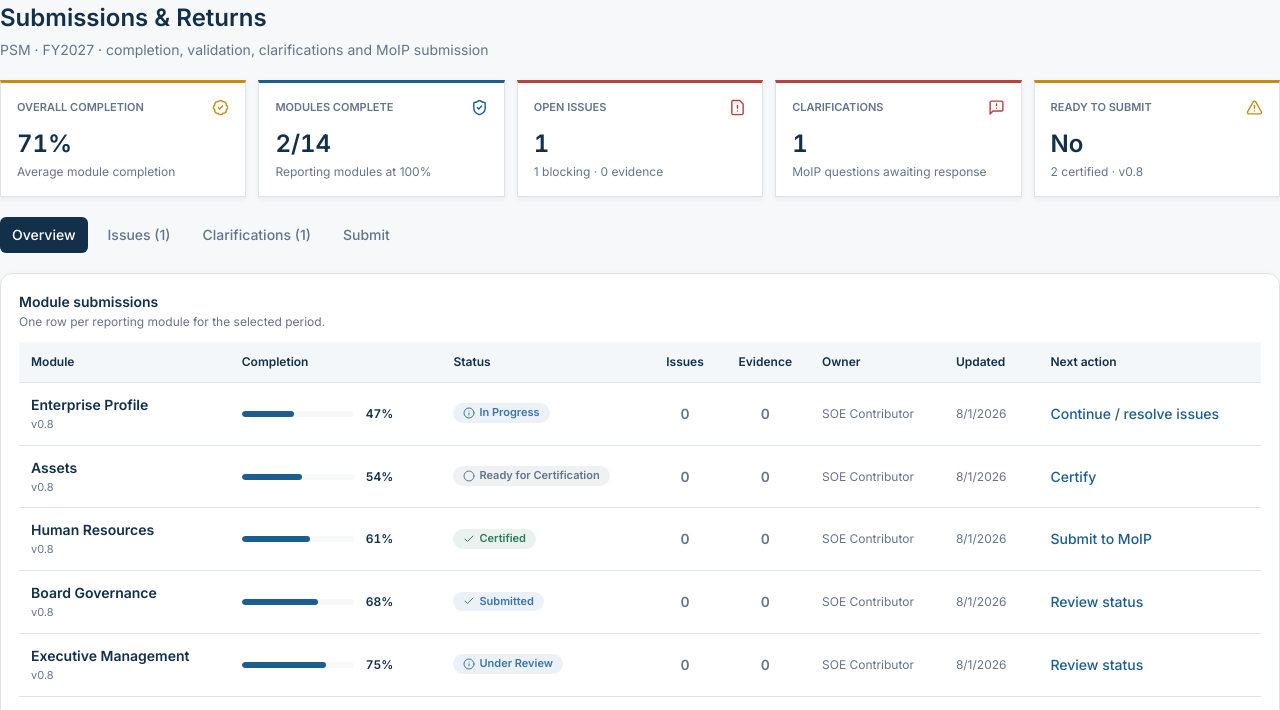
Test: SOE Data Entry submissions and returns › switches to clarifications tab on click
Expected: the heading "Submissions & Returns" is shown, [0,3,267,32]
Click the button "Clarifications (1)" at (257, 235), box [190,217,323,253]
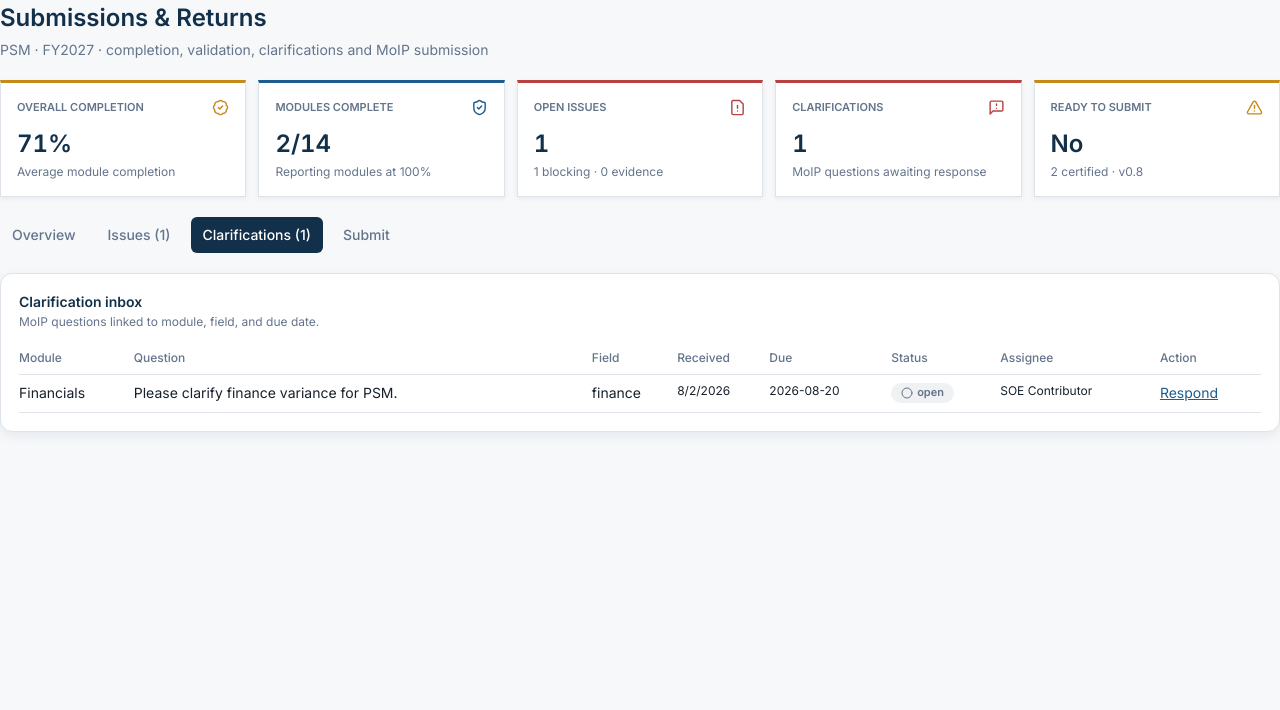
Expected: the heading "Clarification inbox" is shown, [19,293,142,310]
